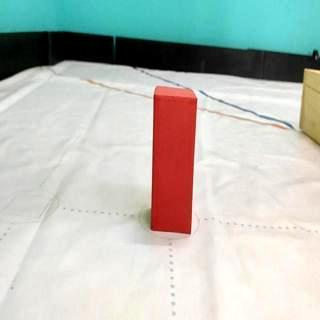redbox: (152, 83, 197, 233)
